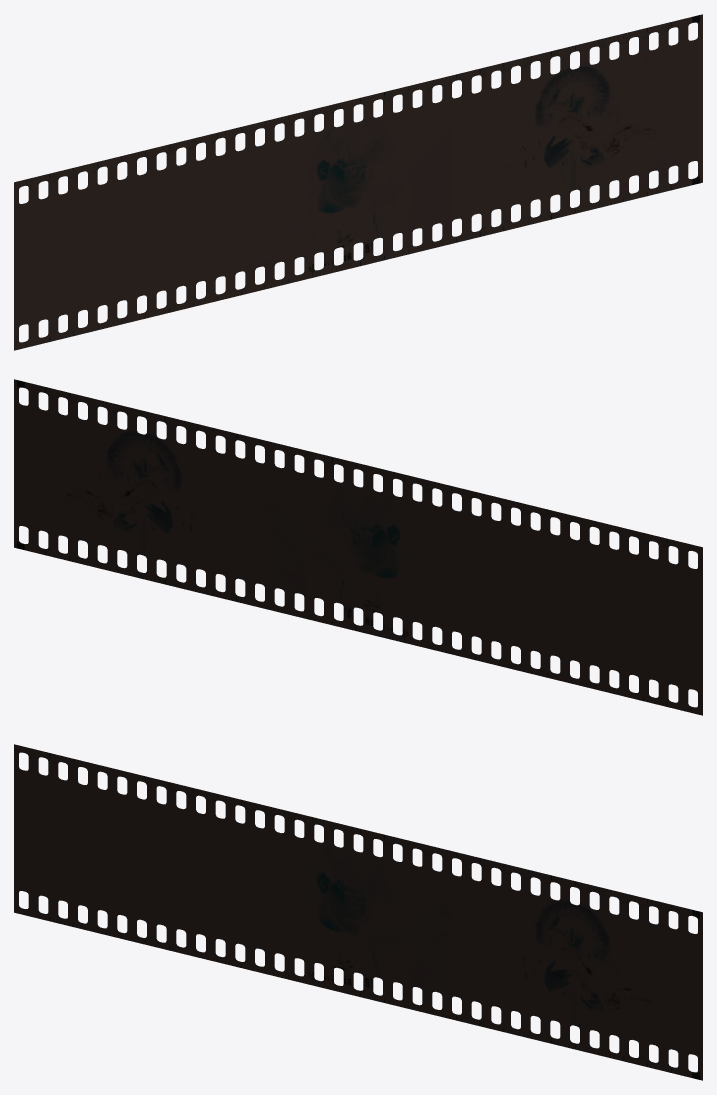
The model's file is Film.glb.
3 views of the same model, one above another, from view 1: azimuth 30°, elevation 25°; view 2: azimuth 150°, elevation 25°; view 3: azimuth 330°, elevation 25° (orthographic).
Parts seen in each view (by area): view 1: Plane; view 2: Plane; view 3: Plane.
Part boxes in pixels (box(x1,y1,x2,y2)): Plane: box(14, 14, 702, 350); Plane: box(14, 379, 702, 715); Plane: box(14, 744, 702, 1080).
Size of the model in its own units: 0.1547 by 0.0361 by 1.86e-08.
Materials: 1 (1 with a texture image).
